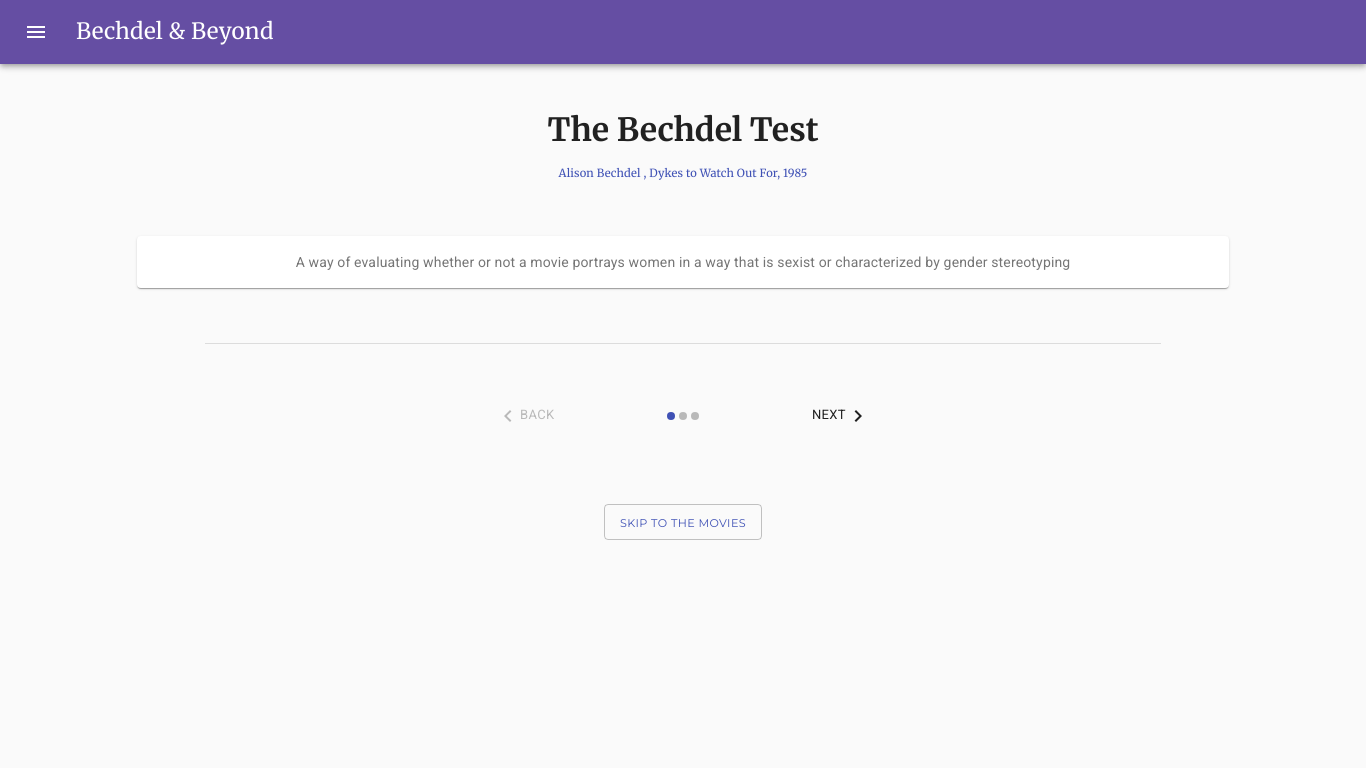
Test: Learn what the Bechdel test is › Click next to show more information
This screenshot has width=1366, height=768.
Click the button with test id "bechdel-next". click: click(841, 416)
box: x1=807 y1=400 x2=875 y2=432
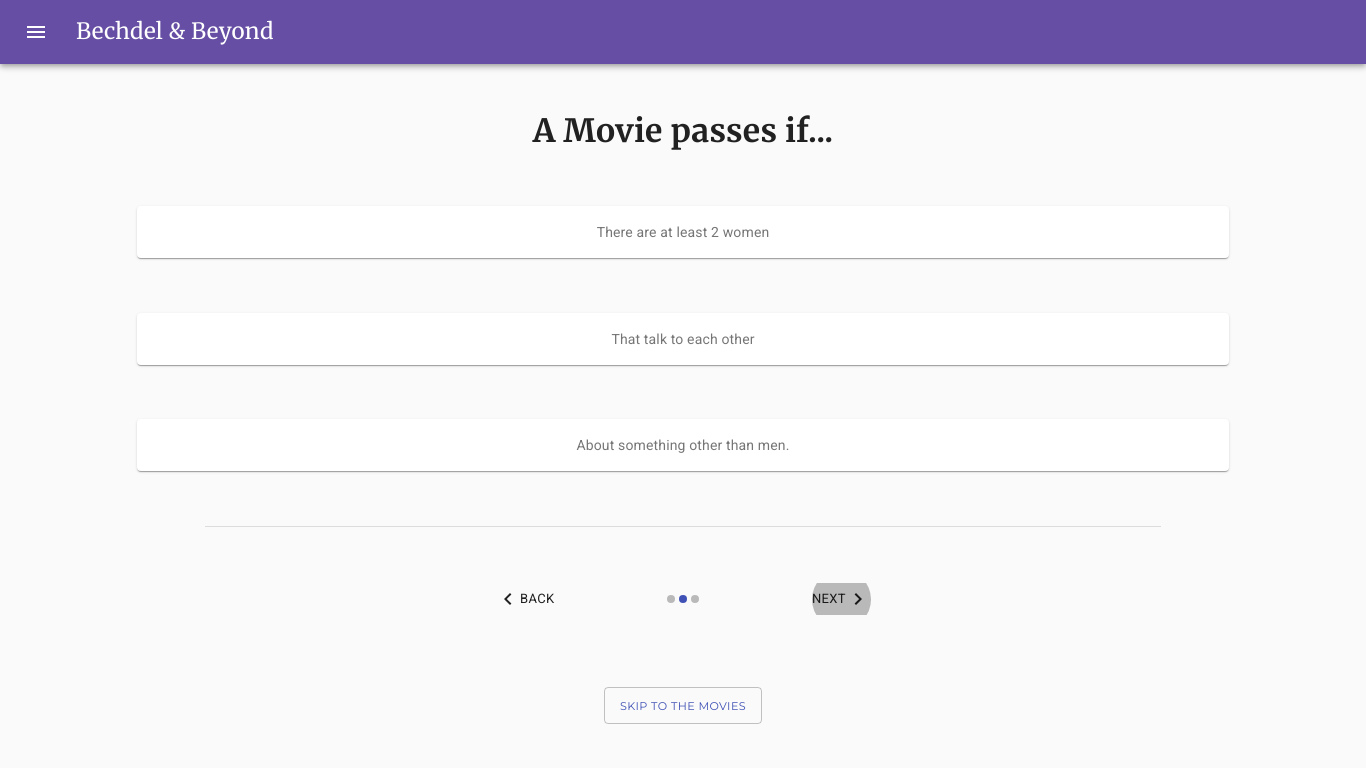
Result: the heading with test id "bechdel-rules" reads "A Movie passes if..." at x1=533 y1=111 x2=834 y2=151
Result: the text with test id "bechdel-one" reads "There are at least 2 women" at x1=597 y1=224 x2=770 y2=240
Result: the text with test id "bechdel-two" reads "That talk to each other" at x1=611 y1=331 x2=754 y2=347
